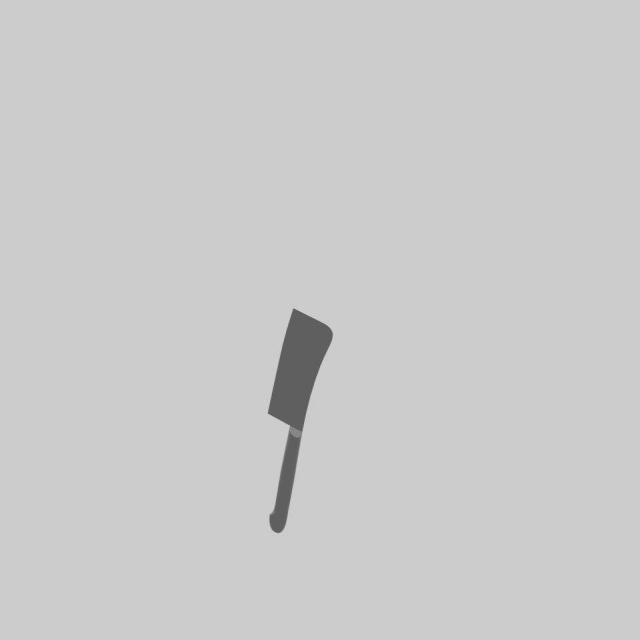knife: (269, 426, 302, 532)
